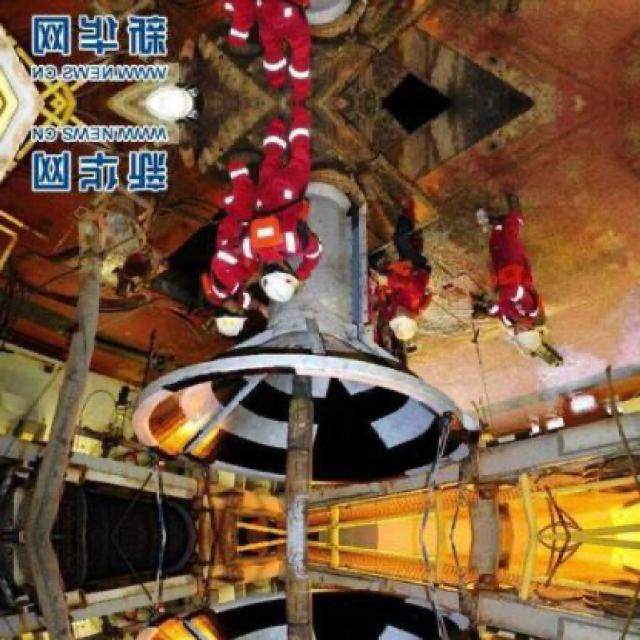con casco: (322, 262, 460, 341), (240, 238, 322, 314), (472, 276, 530, 352), (210, 284, 270, 356), (495, 321, 501, 321)
